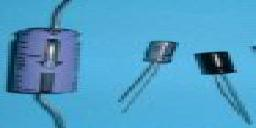Electrolytic-Capacitor: (7, 15, 83, 109), (117, 38, 180, 113), (198, 51, 254, 126)
